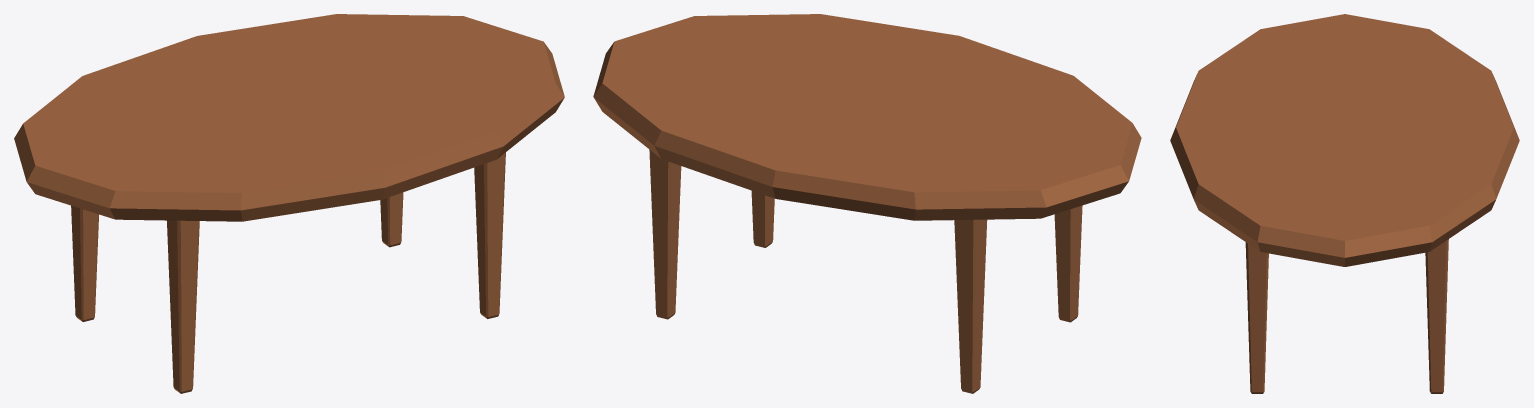
File: Rounded Table A.glb
3 views of the same model, side by side, from view 1: azimuth 30°, elevation 25°; view 2: azimuth 150°, elevation 25°; view 3: azimuth 270°, elevation 25° (orthographic). The views are drawn at different scales.
Visible parts, largest first — view 1: Rounded table A; view 2: Rounded table A; view 3: Rounded table A.
Part boxes in pixels (x1,y1,x2,y2): Rounded table A: [14, 14, 564, 393]; Rounded table A: [593, 14, 1141, 393]; Rounded table A: [1170, 14, 1519, 393].
Size of the model in its own units: 1.83 by 0.7108 by 1.15.
